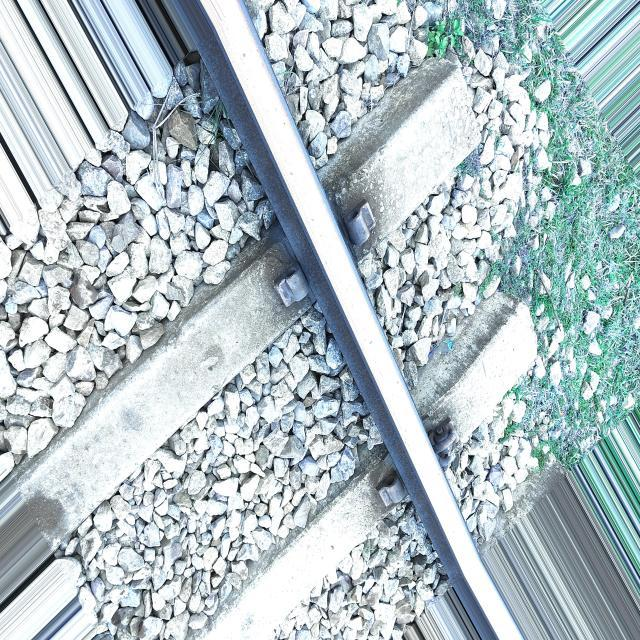Good Fasteners: (433, 411, 464, 472)
Missing Fastener: (338, 179, 384, 249), (266, 257, 312, 321), (374, 471, 411, 514)
